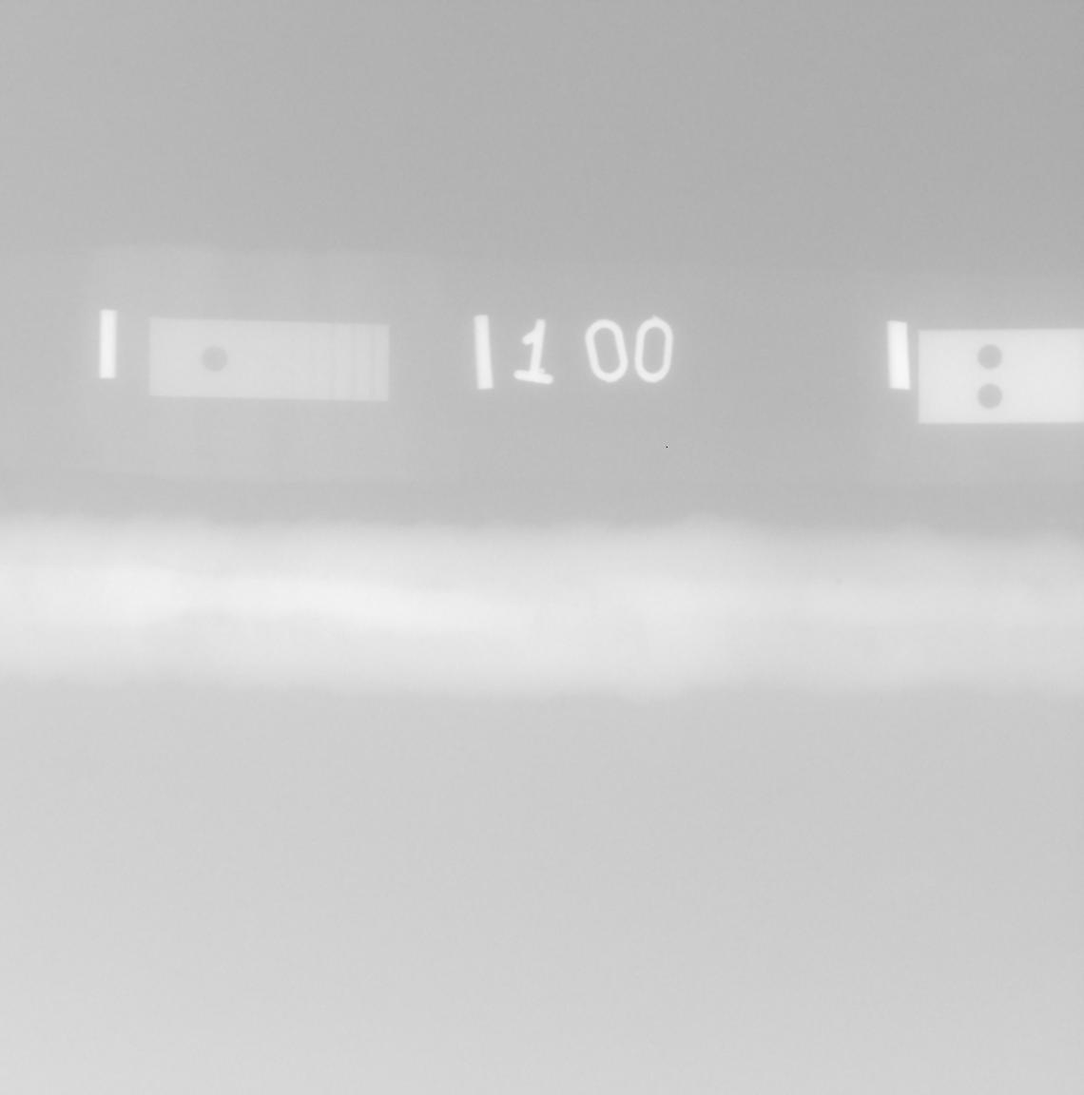Pore/Porosity: (834, 578, 841, 585)
Reference Standard 1: (148, 318, 388, 402)
